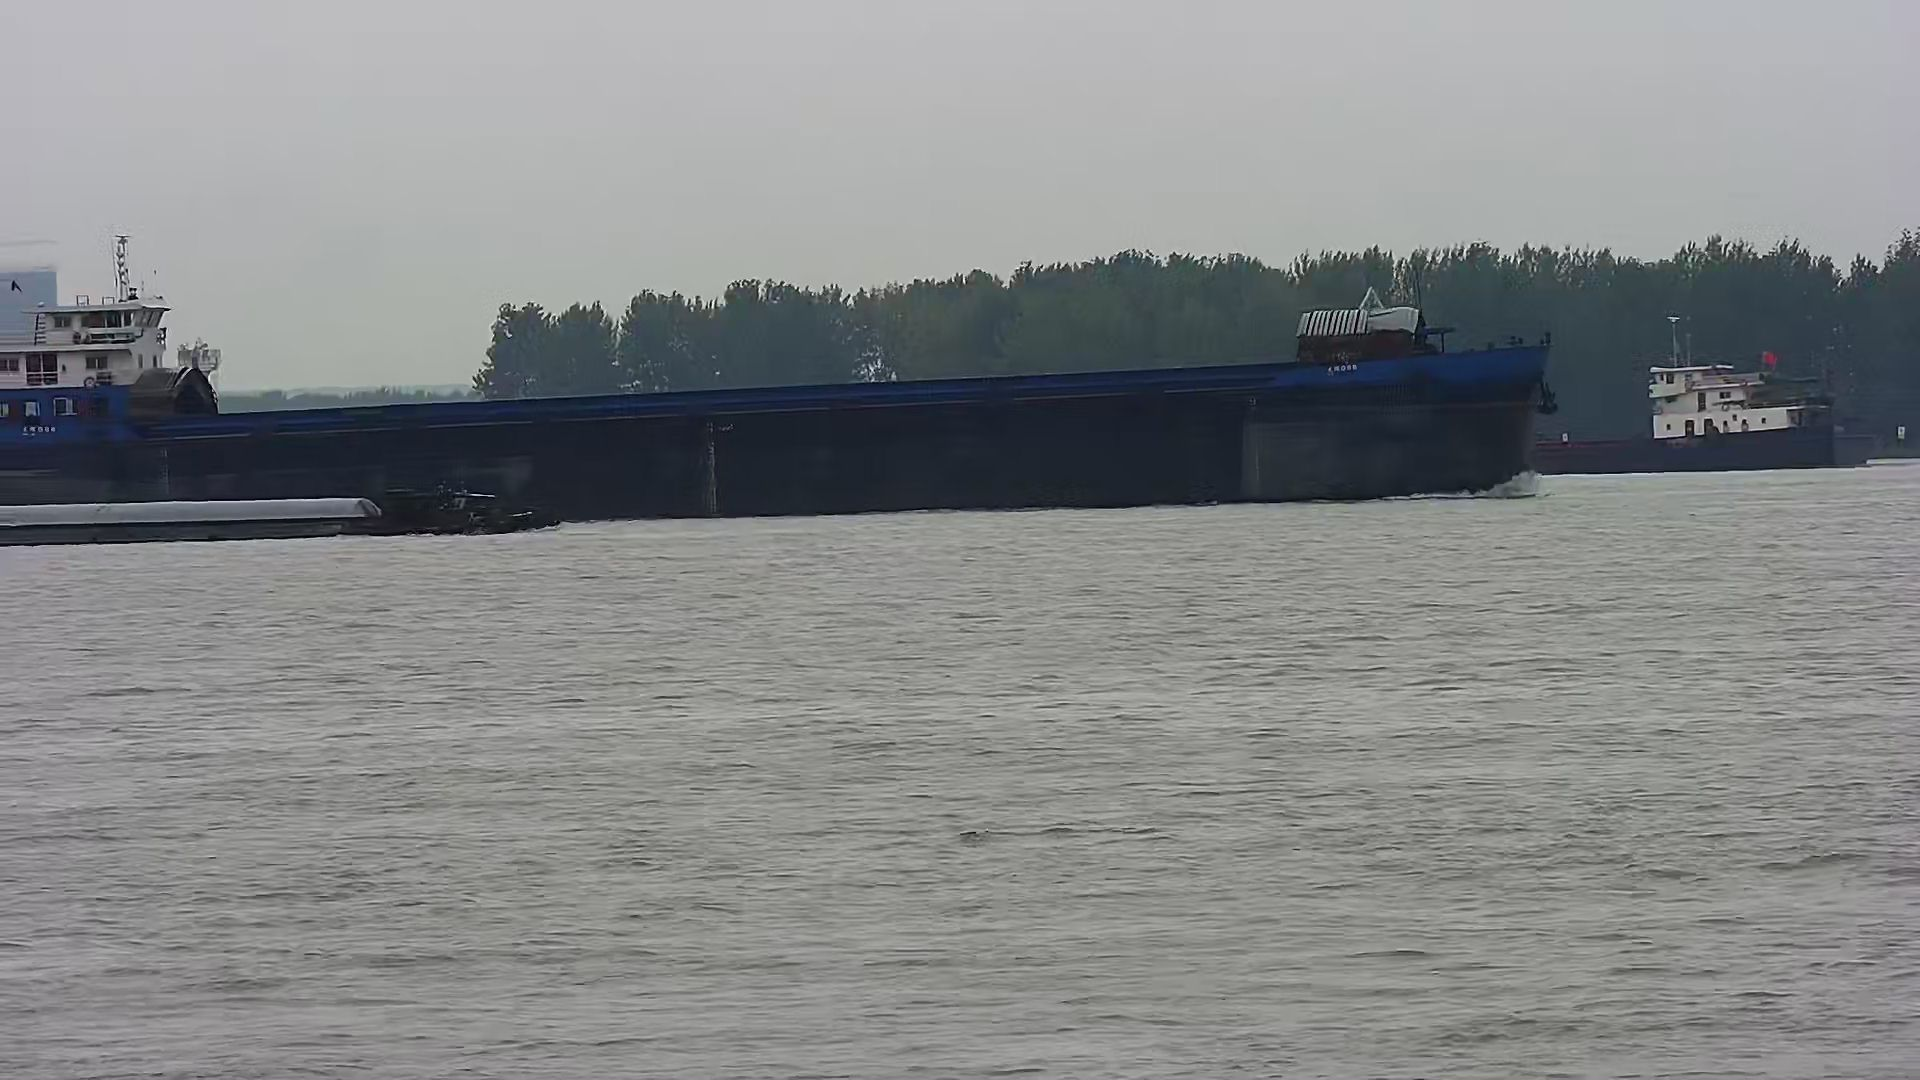ship: (1, 276, 1549, 520), (1539, 309, 1882, 469), (1, 479, 562, 542)
